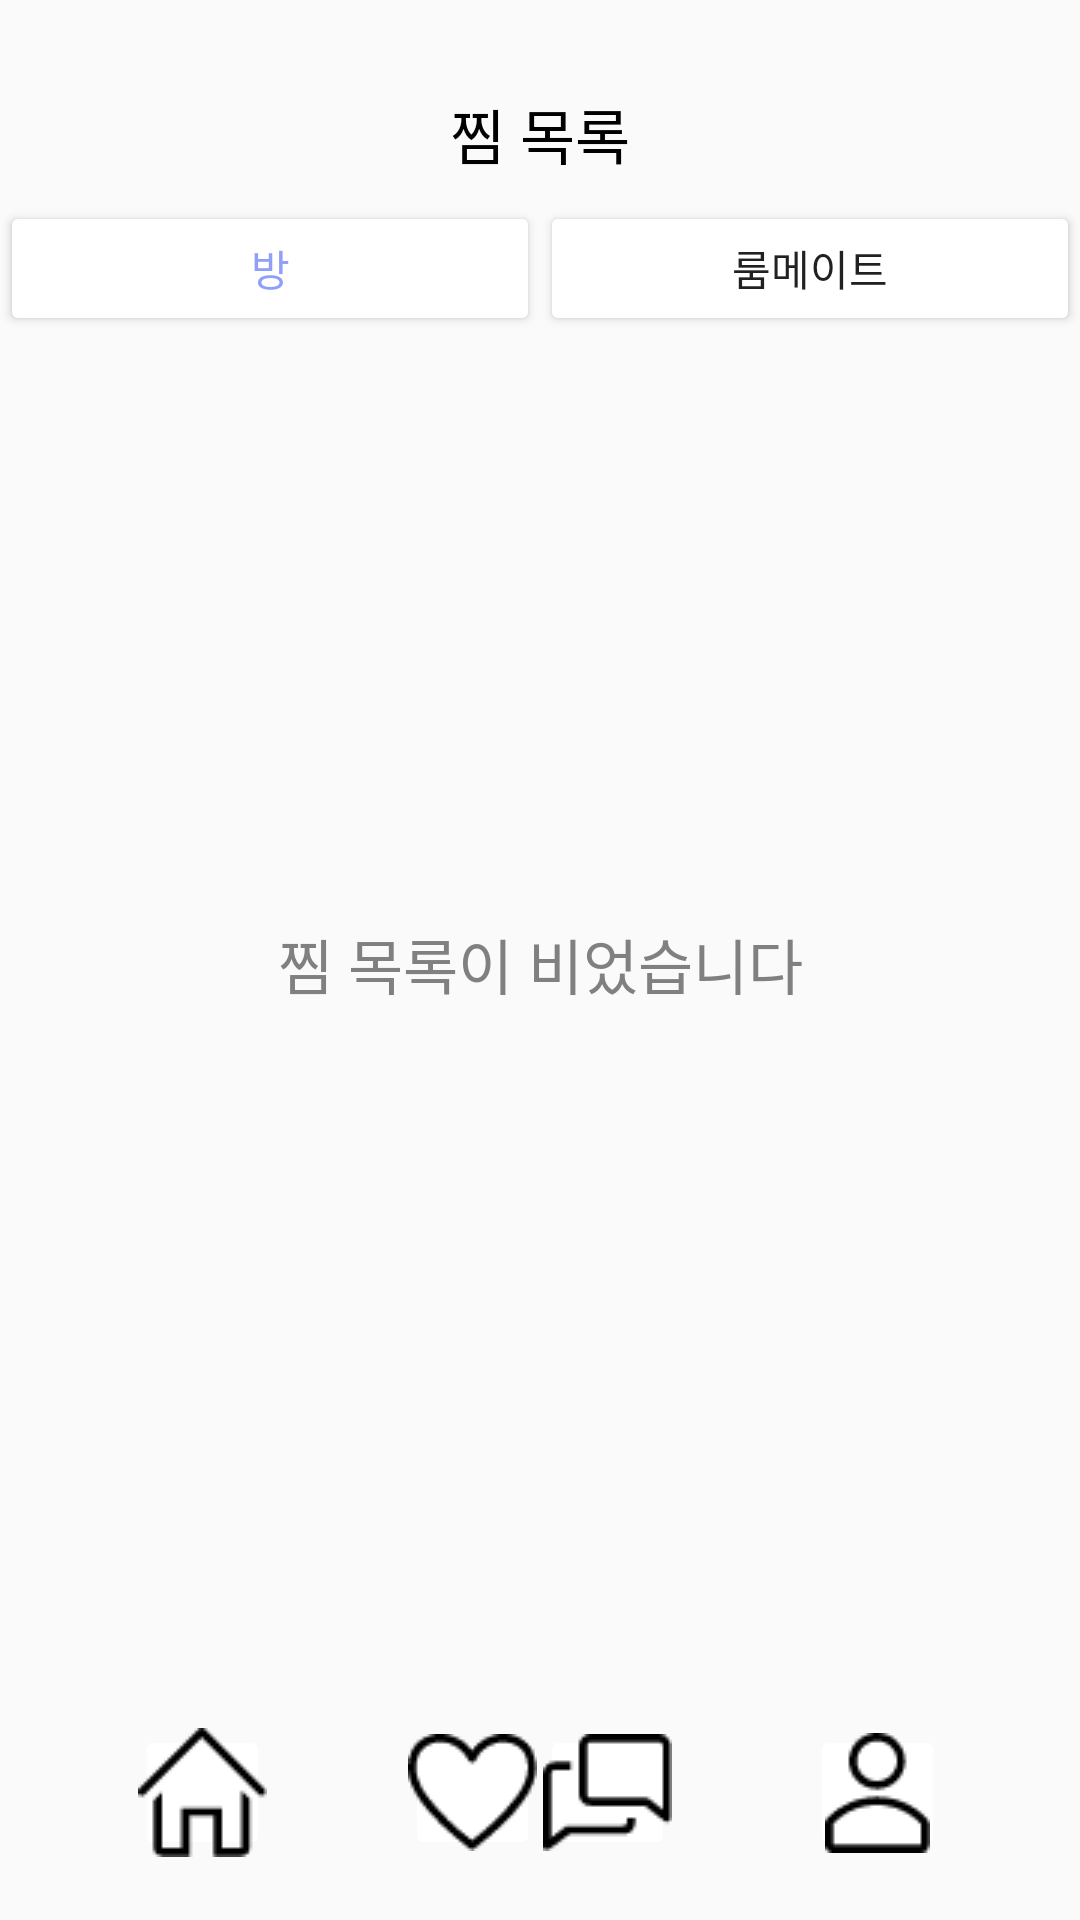

Named icons in this screenshot (1080*1920) and their bounding boxes, (x1, y1, x2, y2):
heart line: (408, 1734, 537, 1851)
home line: (138, 1728, 267, 1857)
talk line: (543, 1734, 672, 1851)
